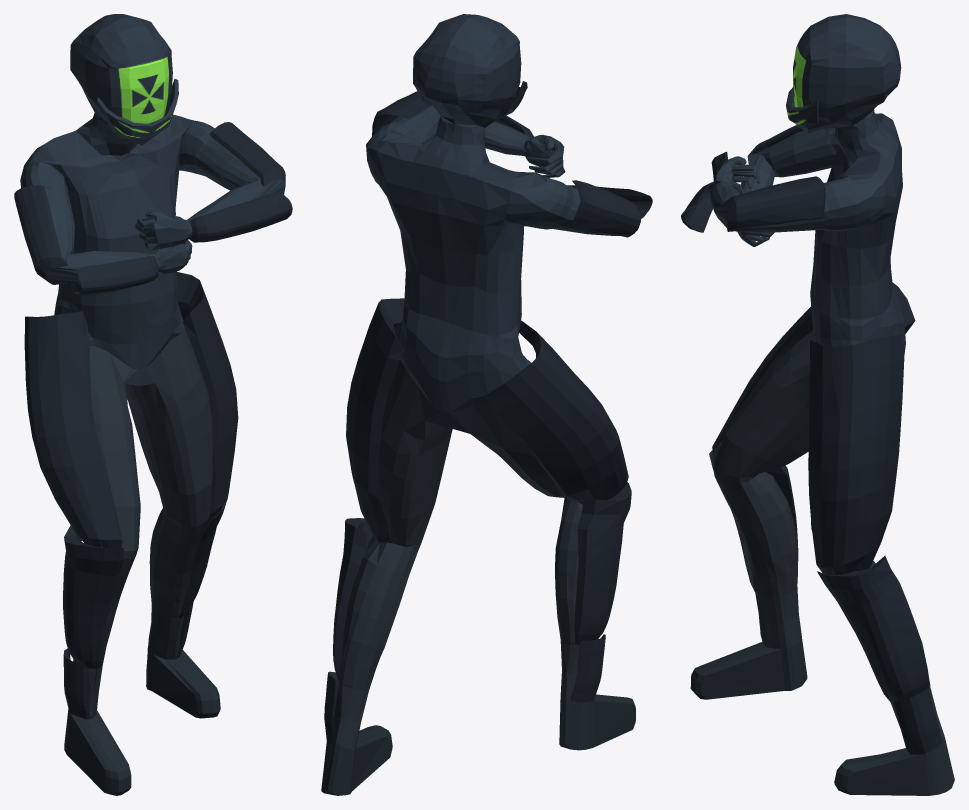
File: Bastion_WF_000018.obj
The picture shows the model from 3 angles, left to right: view 1: azimuth 30°, elevation 25°; view 2: azimuth 150°, elevation 25°; view 3: azimuth 270°, elevation 25°; orthographic projection. The views are drawn at different scales.
Visible parts, largest first — view 1: Cube.002; view 2: Cube.002; view 3: Cube.002.
Boxes of the visible parts, x1,y1,x2,y2 form: Cube.002: (14, 14, 292, 795); Cube.002: (321, 14, 652, 795); Cube.002: (681, 14, 954, 795).
Bounding box in the file's own units: 1.31 × 3.79 × 1.28.
